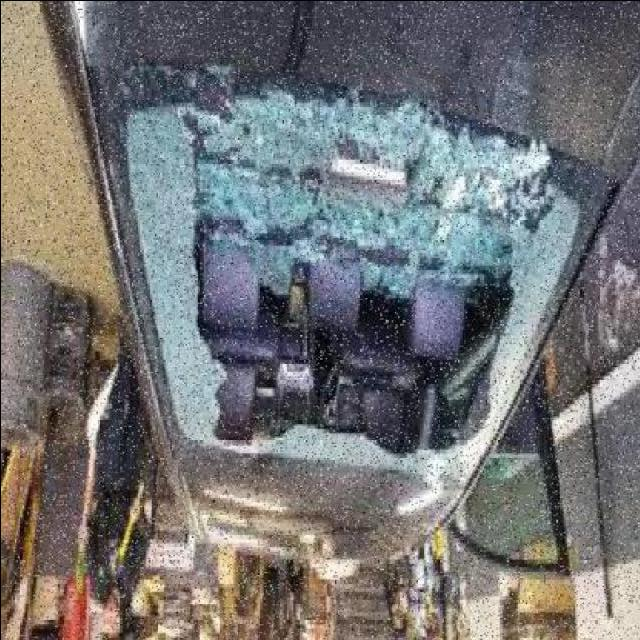Rear-windscreen-Damage: (115, 49, 572, 465)
